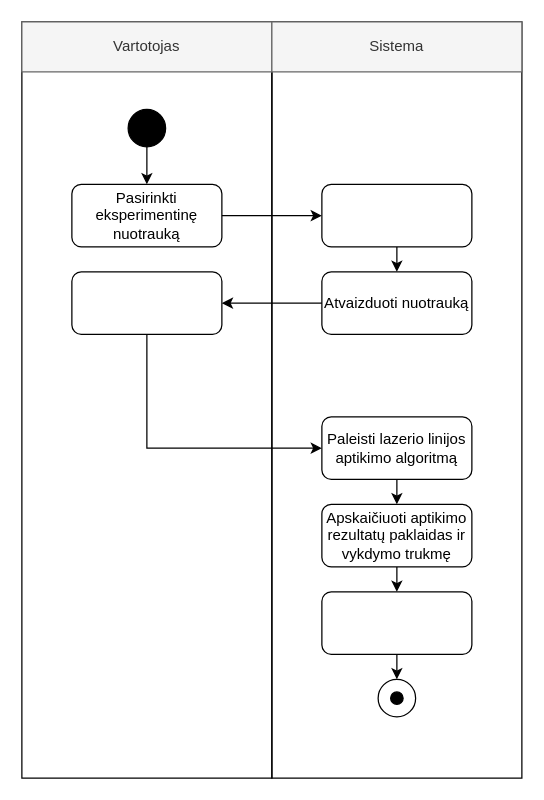
The diagram is 544 pixels wide and 800 high, and some of its shapes have lost their labels. Each missing label, with the centre of its shape:
"Išvesti rezultatus į ekraną" goes at point 396,622.
"Nuskaityti nuotrauką" goes at point 396,215.
"Paspausti 2 lazerio linijos taškus" goes at point 146,302.
